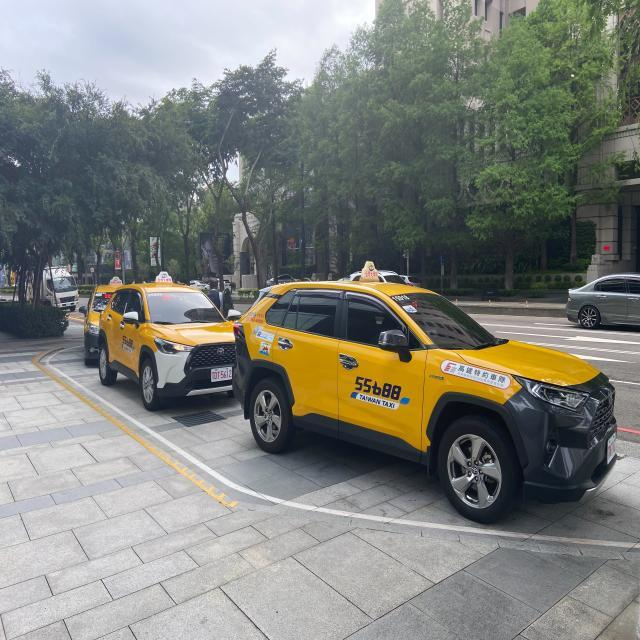Door: (232, 280, 616, 523)
Taxi: (99, 278, 235, 410)
